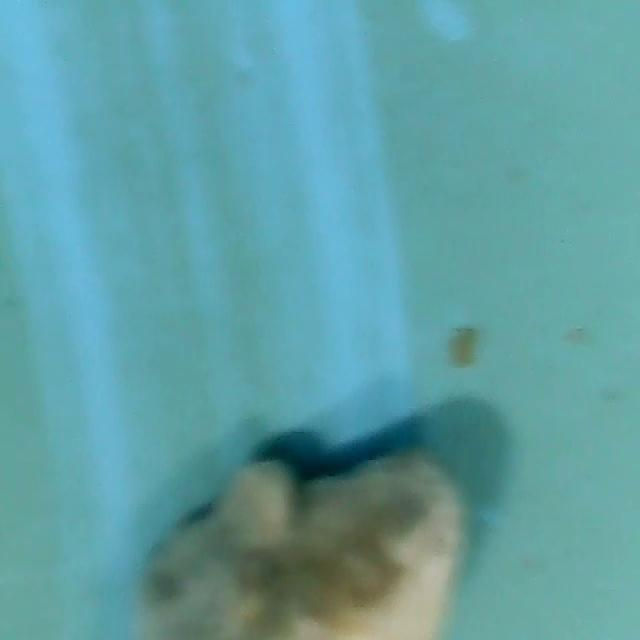rock: (114, 446, 381, 640), (99, 356, 246, 458)
